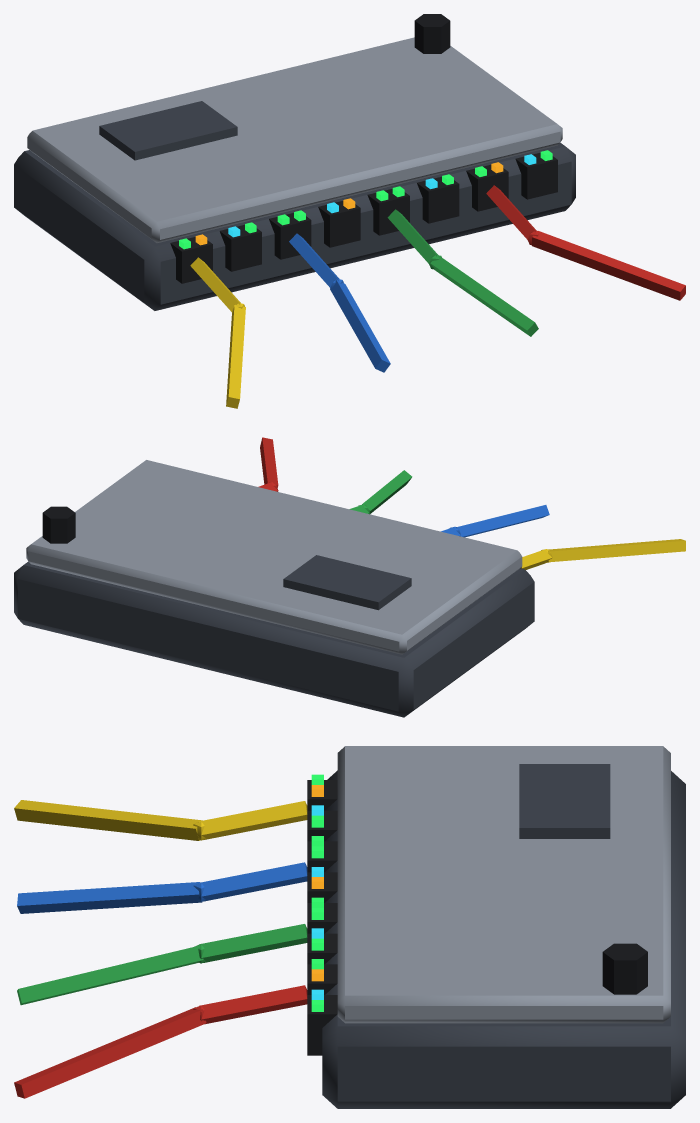
The model's file is router_network_hub.glb.
The picture shows the model from 3 angles, top to bottom: view 1: azimuth 30°, elevation 25°; view 2: azimuth 150°, elevation 25°; view 3: azimuth 270°, elevation 25°; orthographic projection. The views are drawn at different scales.
Parts seen in each view (by area): view 1: router_network_hub; view 2: router_network_hub; view 3: router_network_hub.
Part boxes in pixels (x1,y1,x2,y2): router_network_hub: (14, 14, 685, 408); router_network_hub: (14, 437, 685, 717); router_network_hub: (14, 746, 685, 1108).
Bounding box in the file's own units: 0.4598 × 0.105 × 0.4436.
